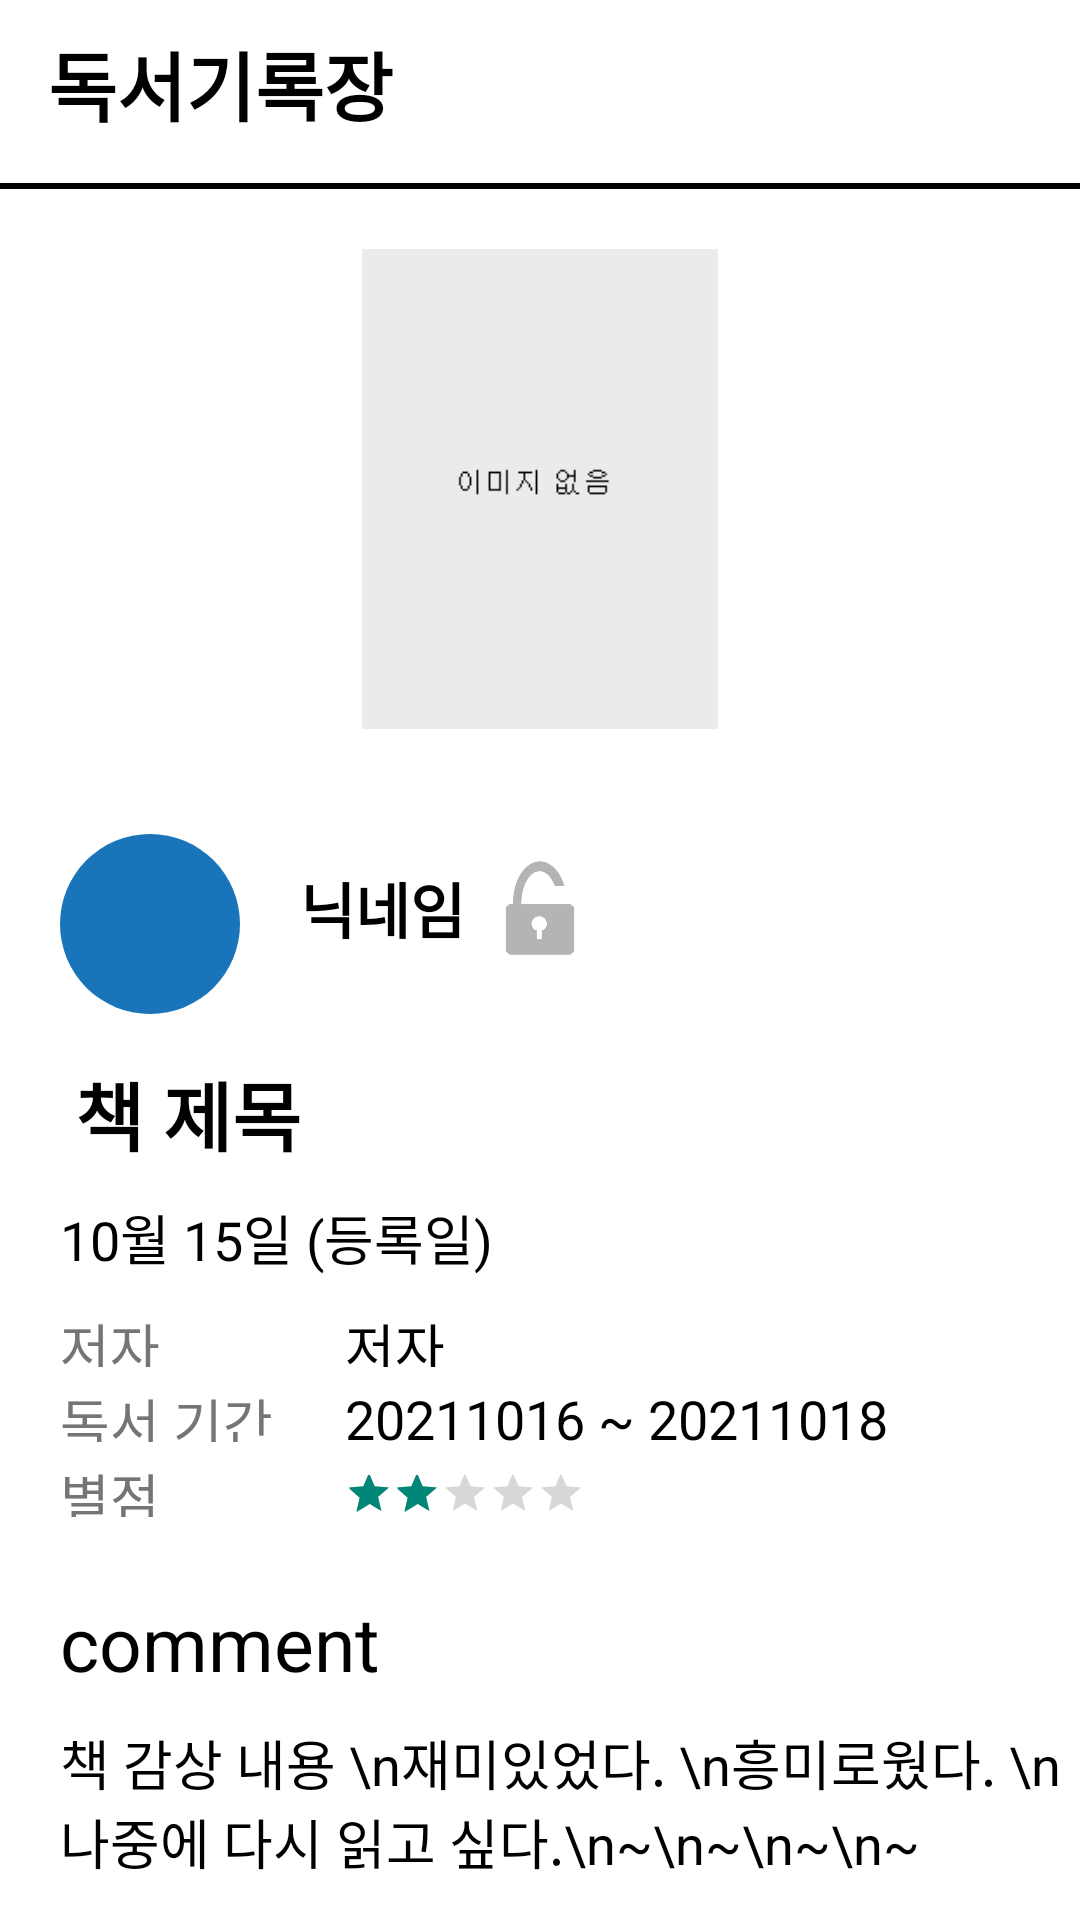

Icon click points for this 1080 × 1920 phone screenshot, format (x,y):
ibtn unlocked: (540,908)
